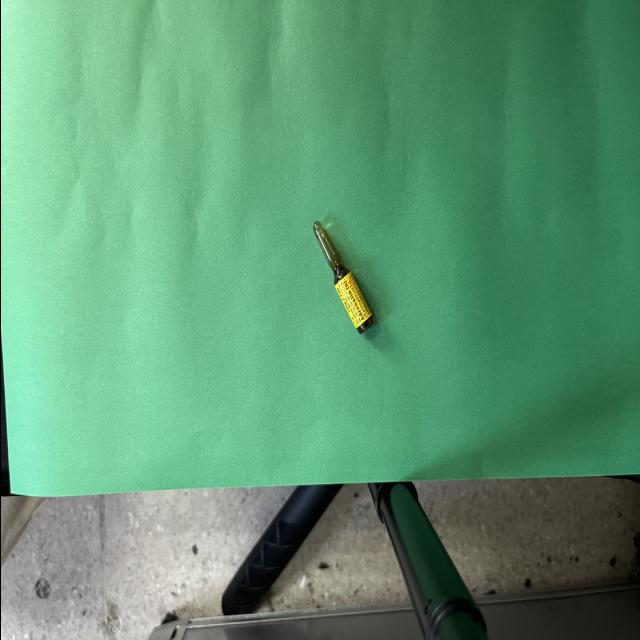Ampoules: (312, 221, 374, 334)
